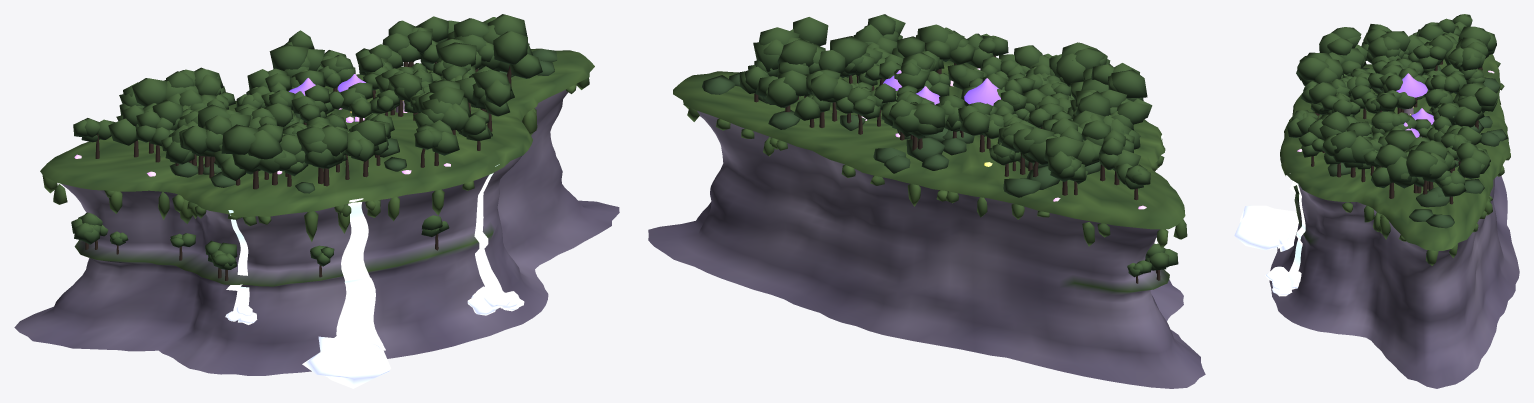
File: mesa_wide.glb
The picture shows the model from 3 angles, left to right: view 1: azimuth 30°, elevation 25°; view 2: azimuth 150°, elevation 25°; view 3: azimuth 270°, elevation 25°; orthographic projection. The views are drawn at different scales.
Parts seen in each view (by area): view 1: hero_valley_rock, hero_valley_leaf, hero_valley_moss, valley_falls, valley_spray, hero_valley_bark; view 2: hero_valley_rock, hero_valley_leaf, hero_valley_moss, hero_valley_bark, hero_valley_spire_cap; view 3: hero_valley_rock, hero_valley_leaf, hero_valley_moss, valley_spray, hero_valley_bark, hero_valley_spire_cap, valley_falls.
Boxes of the visible parts, x1,y1,x2,y2 form: hero_valley_rock: (14, 89, 619, 375); hero_valley_leaf: (71, 14, 557, 269); hero_valley_moss: (40, 48, 594, 241); valley_falls: (226, 164, 502, 350); valley_spray: (225, 286, 524, 388); hero_valley_bark: (85, 38, 511, 280); hero_valley_rock: (648, 110, 1205, 388); hero_valley_leaf: (702, 14, 1178, 277); hero_valley_moss: (673, 60, 1187, 248); hero_valley_bark: (754, 55, 1160, 283); hero_valley_spire_cap: (883, 70, 1000, 105); hero_valley_rock: (1269, 175, 1519, 388); hero_valley_leaf: (1287, 14, 1507, 228); hero_valley_moss: (1280, 54, 1510, 265); valley_spray: (1234, 205, 1301, 296); hero_valley_bark: (1300, 61, 1482, 214); hero_valley_spire_cap: (1396, 73, 1434, 137); valley_falls: (1277, 114, 1305, 287).
Bounding box in the file's own units: 300 × 117 × 155.
